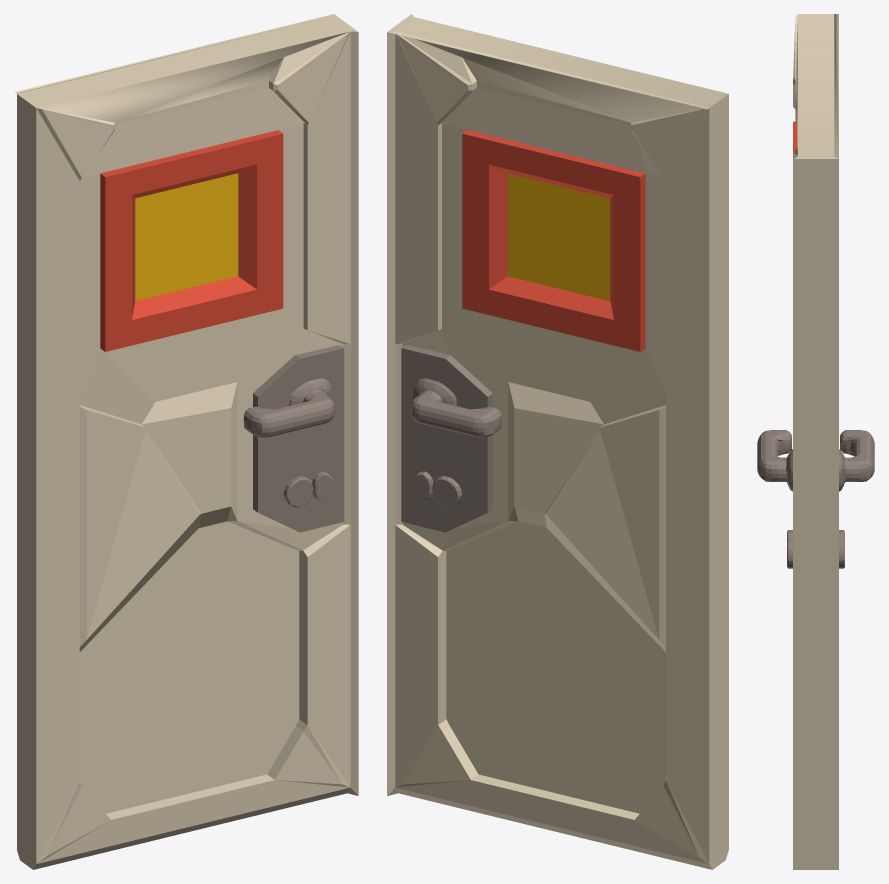
Rendered from Puerta.fbx.
3 renders of one model, left to right at view 1: azimuth 30°, elevation 25°; view 2: azimuth 150°, elevation 25°; view 3: azimuth 270°, elevation 25°, orthographic. The views are drawn at different scales.
Parts seen in each view (by area): view 1: Puerta.002; view 2: Puerta.002; view 3: Puerta.002.
Boxes of the visible parts, x1=… form: Puerta.002: x1=15, y1=14, x2=358, y2=869; Puerta.002: x1=387, y1=14, x2=728, y2=869; Puerta.002: x1=757, y1=14, x2=874, y2=869.
Bounding box in the file's own units: 82.11 × 188 × 28.01.
